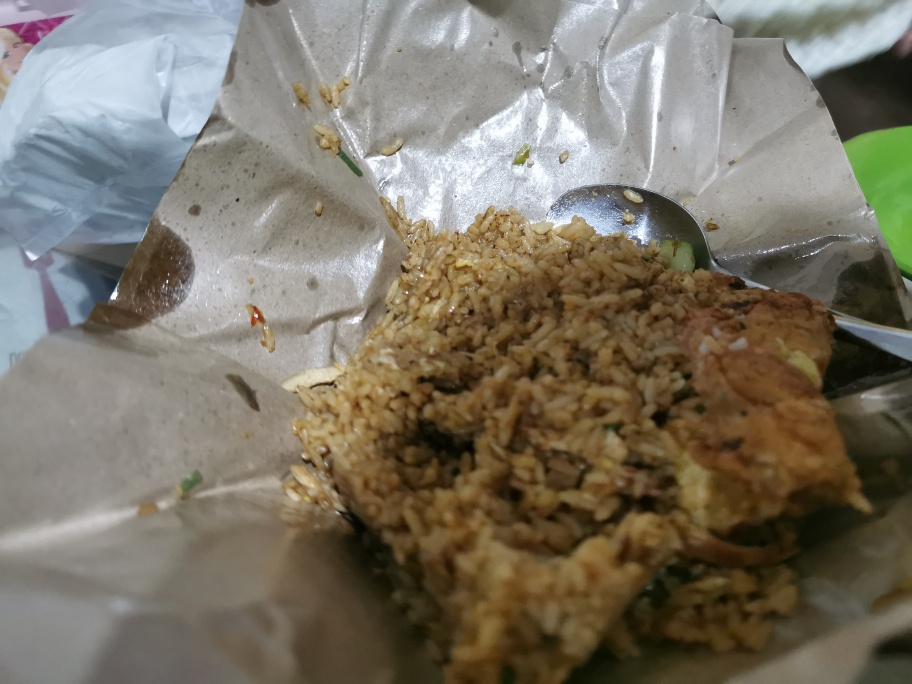nasi goreng: (313, 215, 837, 667)
